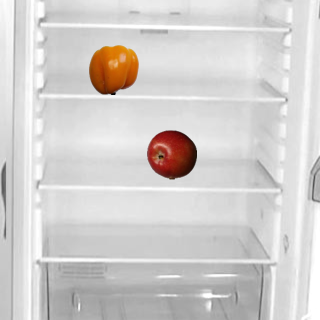Apple Braeburn: (146, 129, 196, 179)
Pepper Yellow: (88, 44, 138, 94)
